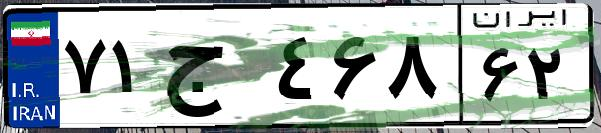1: (110, 28, 158, 98)
2: (525, 38, 570, 115)
4: (270, 28, 330, 110)
6: (330, 28, 385, 110), (475, 38, 525, 113)
7: (57, 26, 110, 100)
8: (385, 28, 445, 110)
ج: (158, 20, 270, 120)
